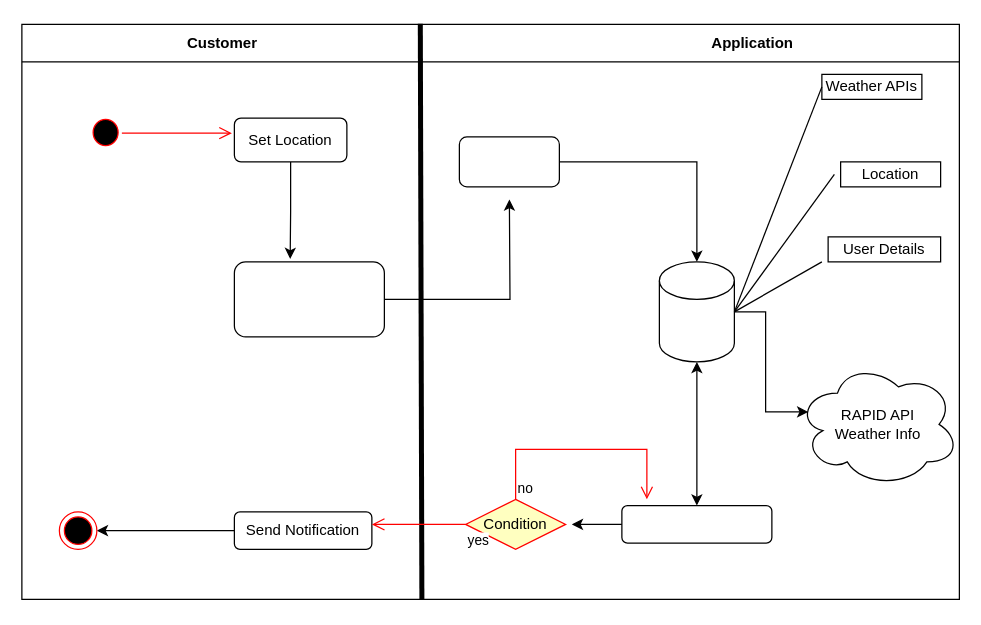
Image size: 981x625. Some labels were removed from this diagram. The centre of each missing label's shape, as x and y in pixels:
"Database" goes at point (696, 311).
"Get Information" goes at point (696, 523).
"Set Weather Preference (Temparature)" goes at point (308, 299).
"Store Information" goes at point (508, 161).
